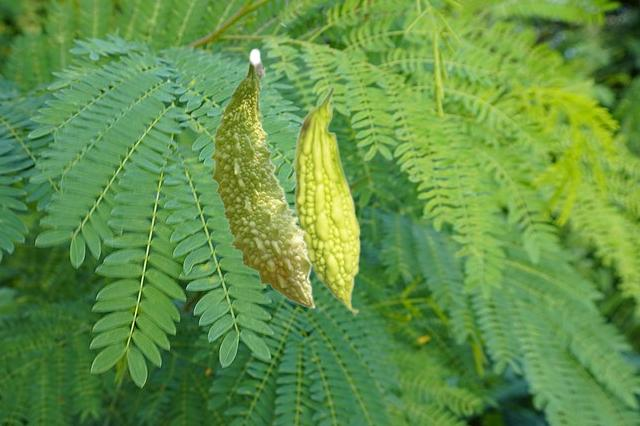ampalaya: (209, 48, 316, 310), (292, 83, 362, 317)
